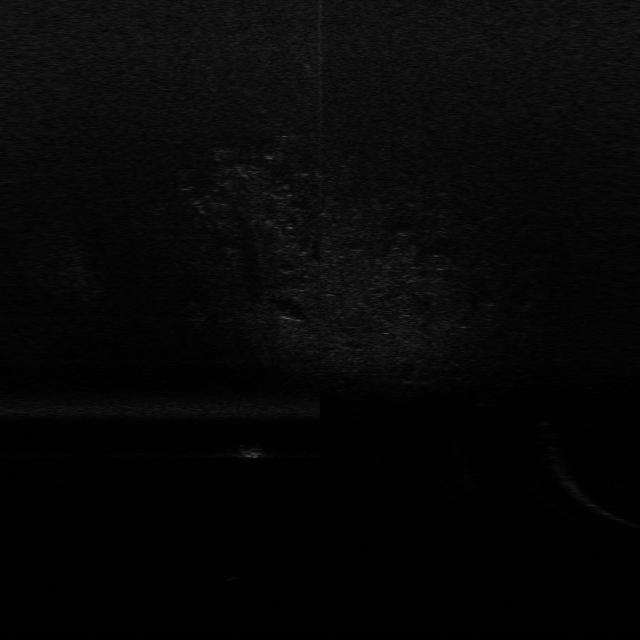square cage: (233, 435, 272, 464)
